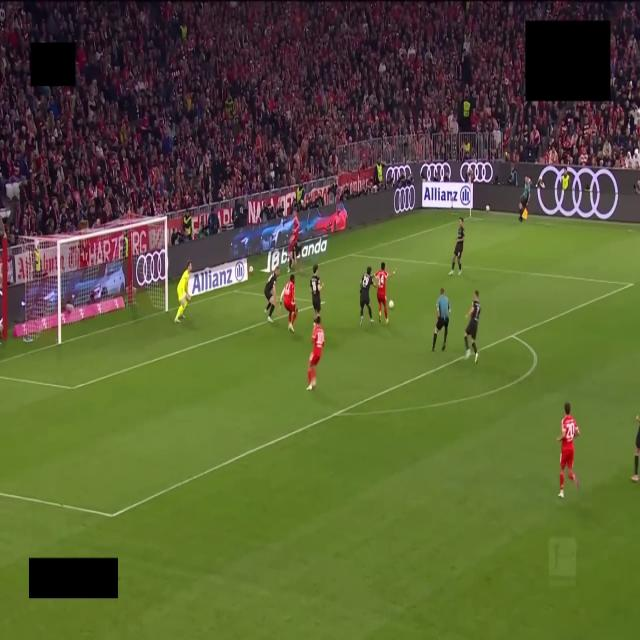ball: (389, 301, 393, 309)
player: (557, 403, 579, 497), (307, 316, 325, 390), (375, 262, 395, 323), (464, 290, 480, 362), (175, 262, 191, 322), (360, 267, 376, 326), (281, 274, 297, 332), (449, 217, 464, 275), (265, 267, 279, 322), (288, 212, 300, 271), (310, 264, 322, 318), (632, 416, 639, 482)
referee: (432, 288, 450, 351)
